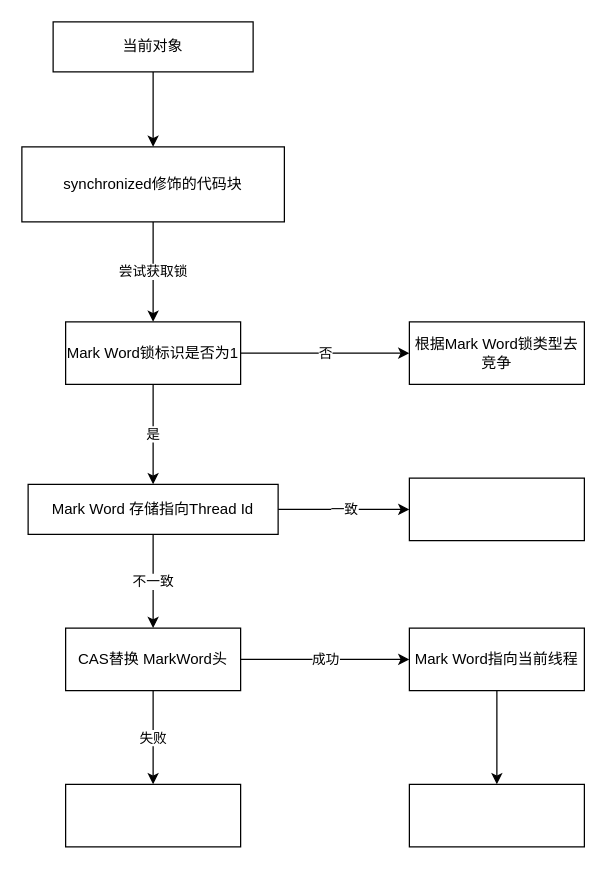
Image size: 606x869. Some labels were removed from this diagram. Here are the shapes that lost their labels. From the top down, the box of each, then its label:
(408, 477, 584, 541): 已获得锁
(64, 783, 241, 847): 锁升级为轻量级锁
(408, 783, 584, 847): 获取偏向锁去执行
